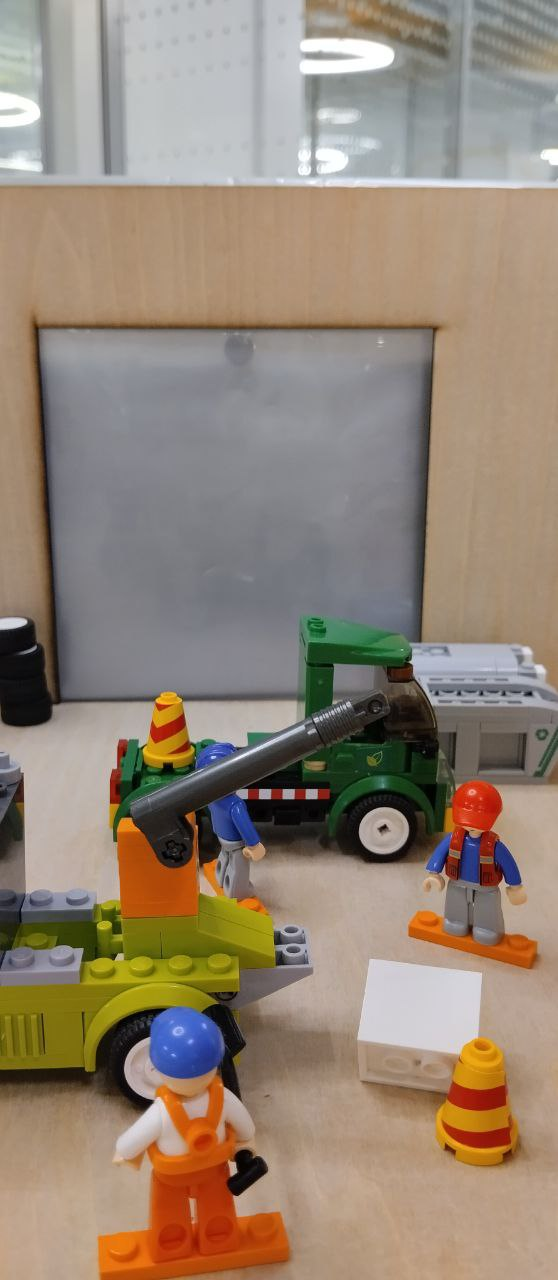Cone: (426, 1040, 520, 1166), (146, 687, 190, 772)
Crane: (0, 691, 398, 1080)
Object white: (359, 956, 481, 1084)
Truck: (112, 615, 456, 856)
